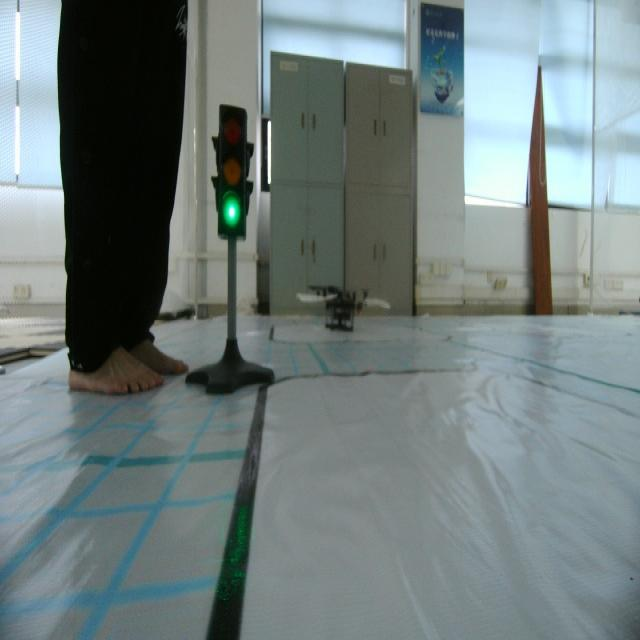green: (211, 95, 255, 246)
